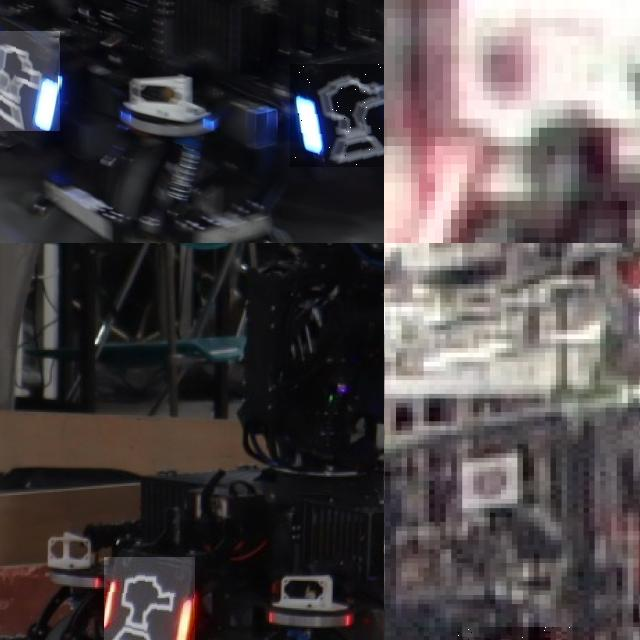Bs: (290, 63, 384, 167), (0, 31, 61, 130)
Rs: (104, 557, 196, 640)
